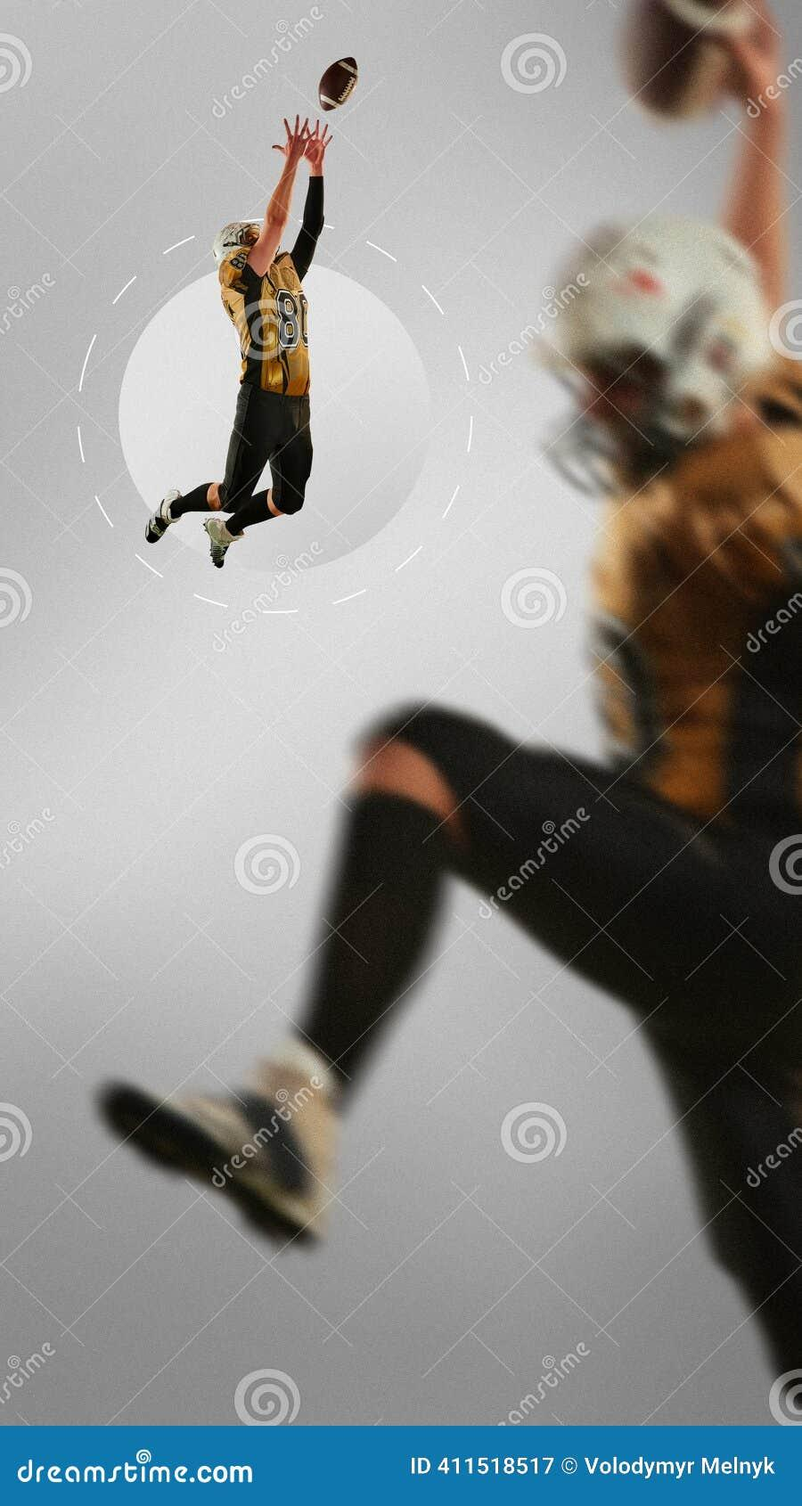americanFootball: (316, 51, 363, 109)
